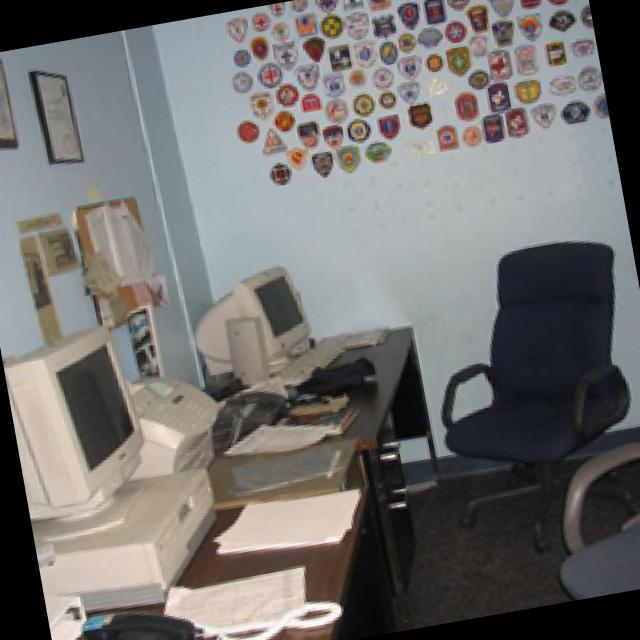bulletin board: (74, 192, 162, 326)
chair -occluded-: (441, 233, 640, 548)
chair seat: (564, 439, 640, 593)
computer crop: (36, 459, 217, 609)
desk calendar: (211, 321, 444, 593), (73, 494, 399, 640)
fax machine: (130, 372, 227, 472)
file organizer: (212, 433, 361, 502)
hanging patches: (225, 0, 609, 188)
keyboard crop: (279, 339, 340, 385)
monitor crop: (7, 322, 150, 535), (194, 263, 311, 368)
notebook: (335, 322, 394, 348)
paper cup with straws: (166, 564, 305, 627), (21, 233, 64, 341), (226, 421, 340, 457), (128, 299, 165, 372), (40, 221, 81, 271), (18, 206, 66, 230), (152, 270, 172, 303)
papers: (215, 484, 367, 551)
phone charger: (71, 609, 208, 640), (218, 387, 285, 433)
picture occluded: (34, 68, 84, 164), (0, 55, 20, 147)
stapler: (309, 348, 382, 395)
